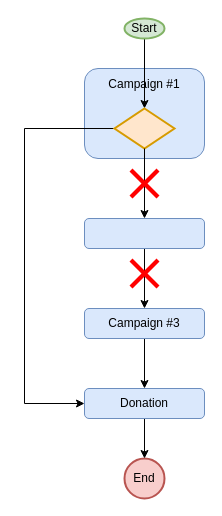
Some shapes in this 222 by 516 pixel diagram are drawn without their labels. Each missing label, with the centre of its shape:
"Break" goes at [144,128].
"Campaign #2" goes at [144,233].
